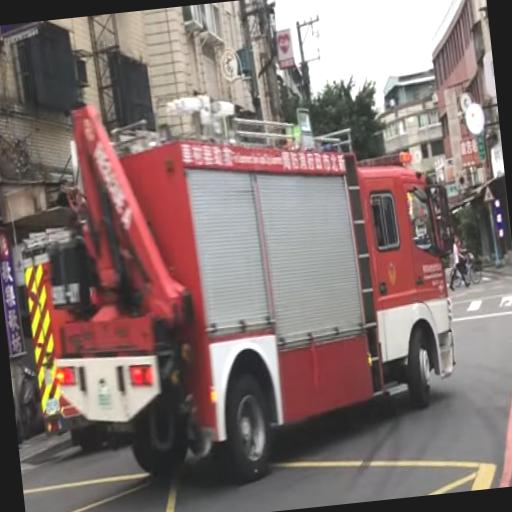fire truck: (38, 95, 455, 481)
